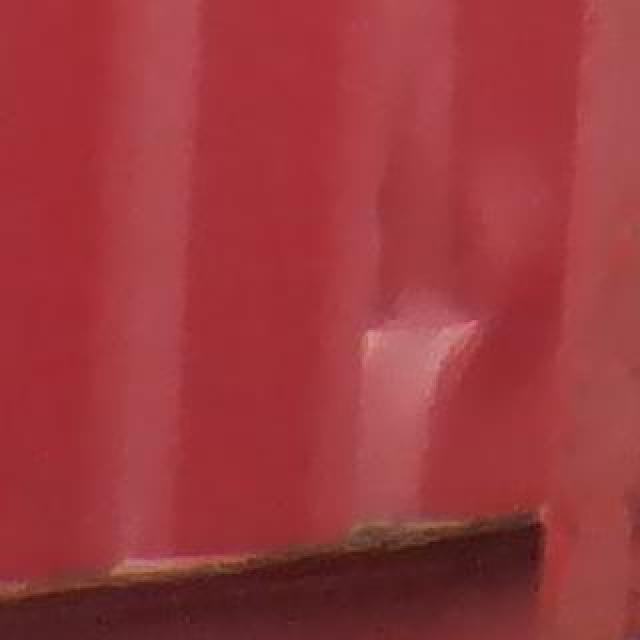dent: (151, 131, 595, 469)
